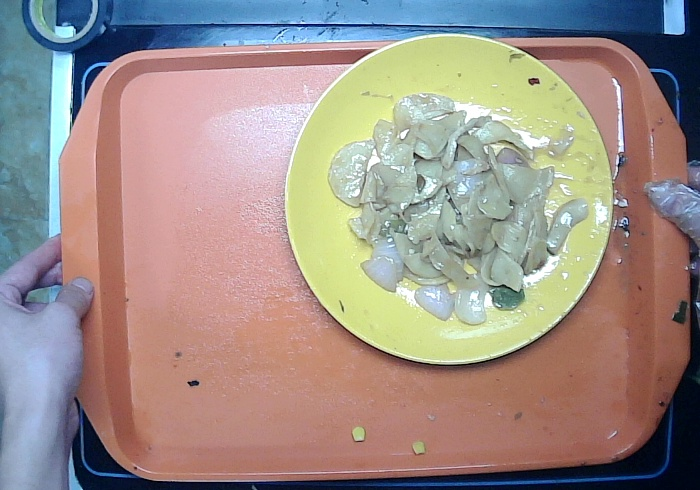HZYJPL-Huang_Se_Yuan_Pan: (275, 25, 620, 370)
